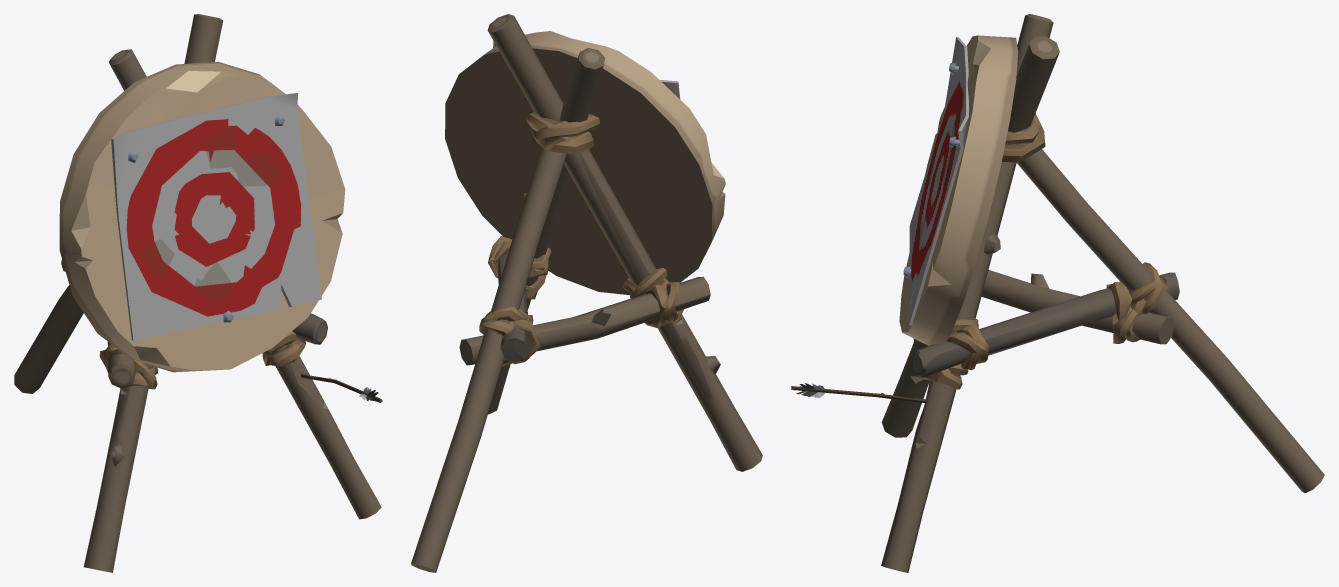
Rendered from Target_01.fbx.
The picture shows the model from 3 angles, left to right: view 1: azimuth 30°, elevation 25°; view 2: azimuth 150°, elevation 25°; view 3: azimuth 270°, elevation 25°; orthographic projection. The views are drawn at different scales.
Parts seen in each view (by area): view 1: target_01; view 2: target_01; view 3: target_01.
Part boxes in pixels (<box>): target_01: <box>14,14,382,572</box>; target_01: <box>411,14,762,572</box>; target_01: <box>791,14,1324,572</box>.
Bounding box in the file's own units: 160 × 246 × 243.
Materials: 1 (1 with a texture image).
